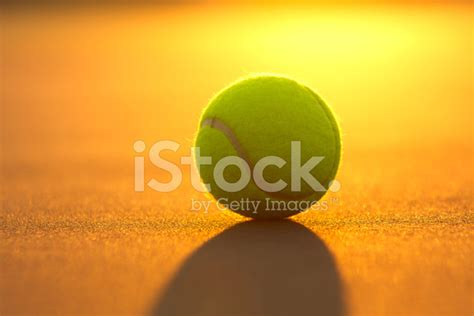tennis_ball: (193, 74, 342, 220)
